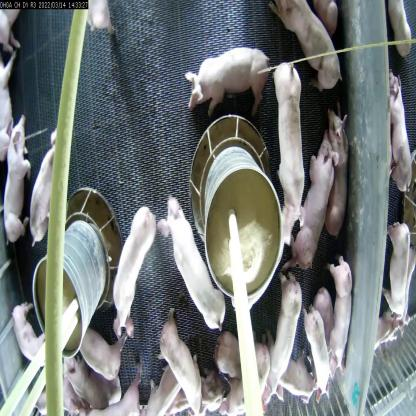Pig: (163, 203, 226, 334), (265, 63, 305, 249), (263, 0, 344, 90), (186, 43, 272, 118), (115, 206, 162, 334), (294, 143, 334, 273), (26, 134, 70, 246), (214, 329, 277, 399), (271, 272, 302, 414), (164, 318, 206, 415), (69, 314, 124, 386), (330, 258, 362, 378), (322, 110, 351, 242), (5, 122, 34, 250), (270, 352, 323, 415), (303, 310, 336, 408), (151, 363, 184, 415), (80, 386, 138, 415)
